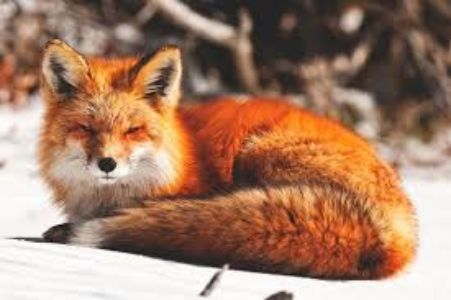fox: (33, 37, 420, 282)
